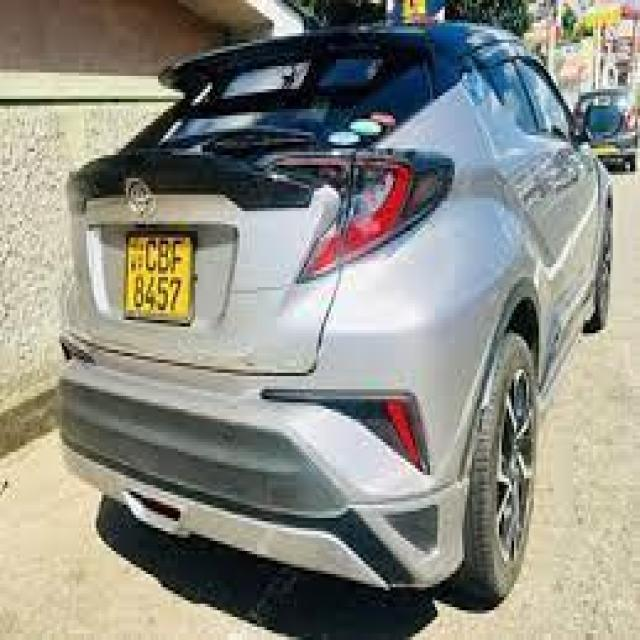license-plate: (124, 231, 186, 313)
